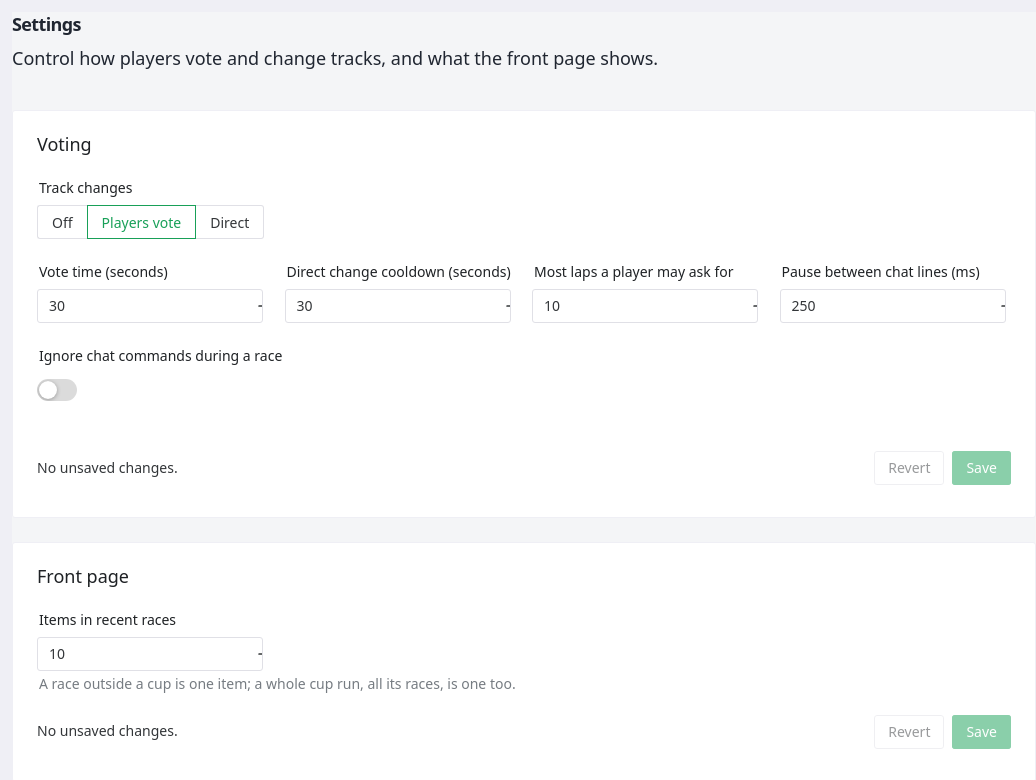
Test: SettingsView › shows a field error under the field
Replace the text in the field named "Most laps a player may ask for" with "12": point(645, 306) x1=544 y1=289 x2=746 y2=323
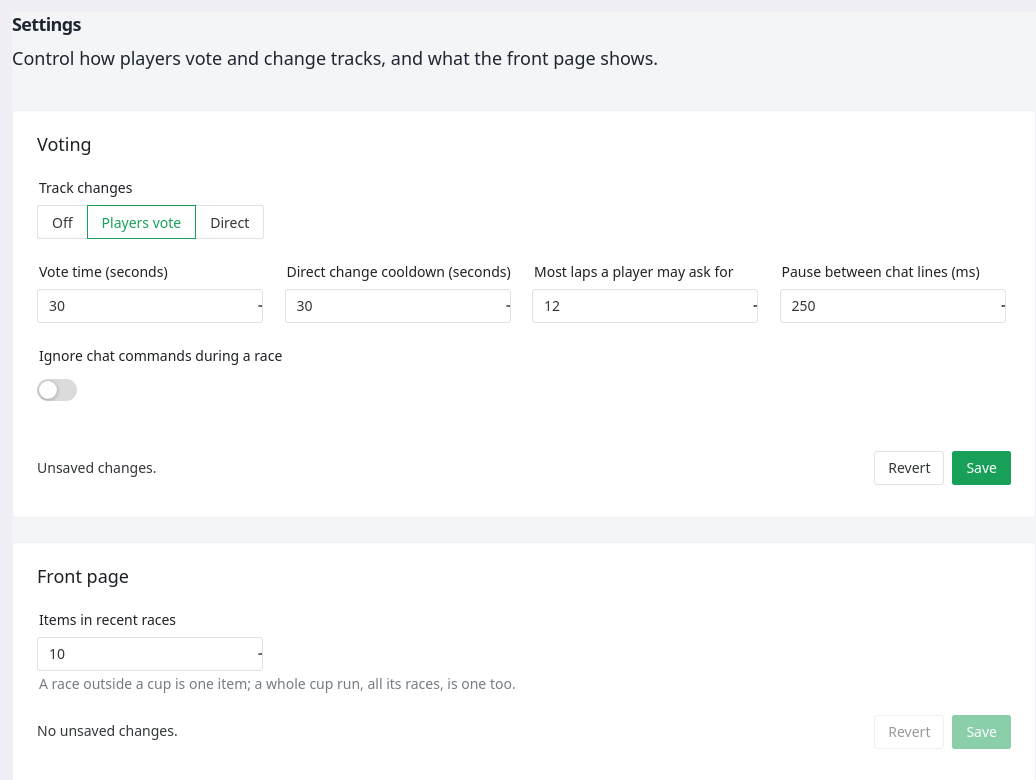
Click the button "Save" below "Most laps a player may ask for": point(982, 468) x1=952 y1=451 x2=1011 y2=485
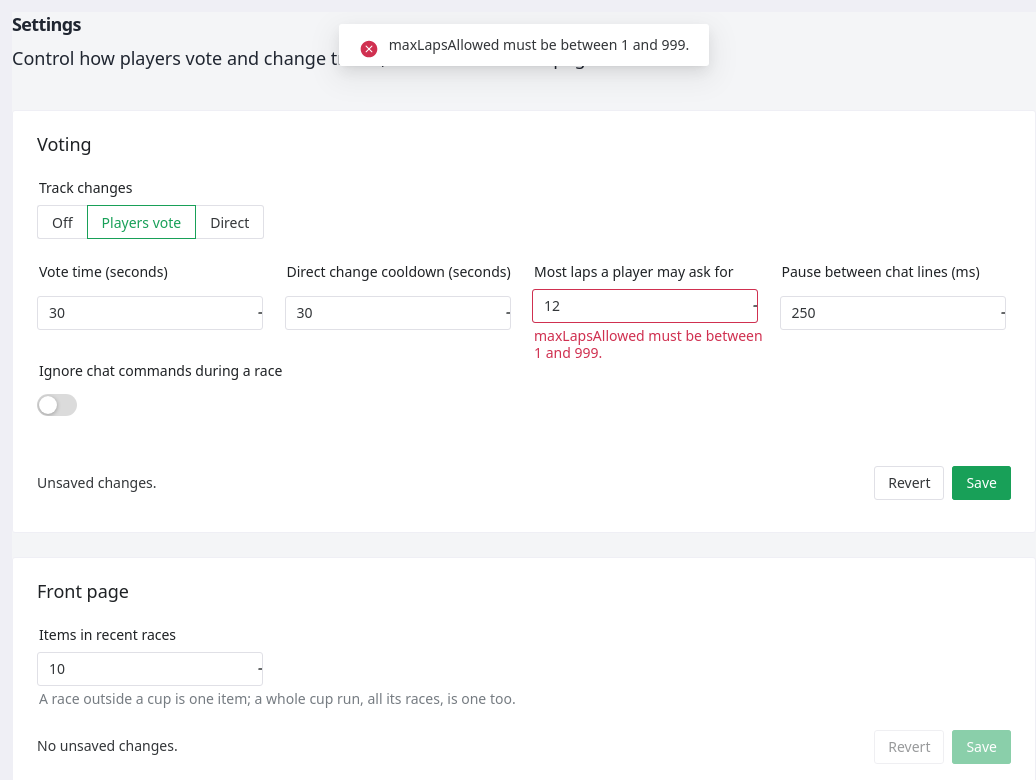
Check: the text "maxLapsAllowed must be between 1 and 999." is shown, box x1=534 y1=327 x2=764 y2=362
